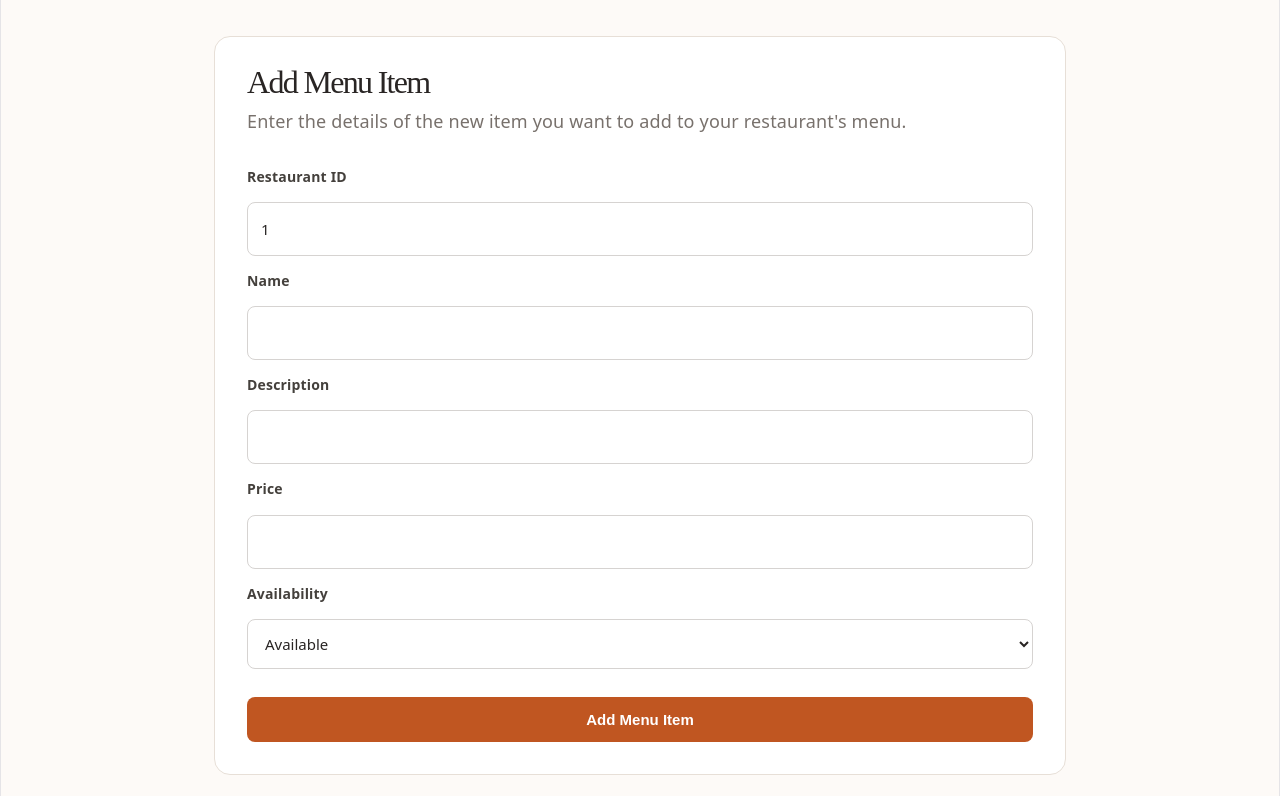
Test: adds a menu item
Type "Burger" into the field labelled "Name".
click(640, 333); type("Burger")  # box x1=247 y1=306 x2=1033 y2=360
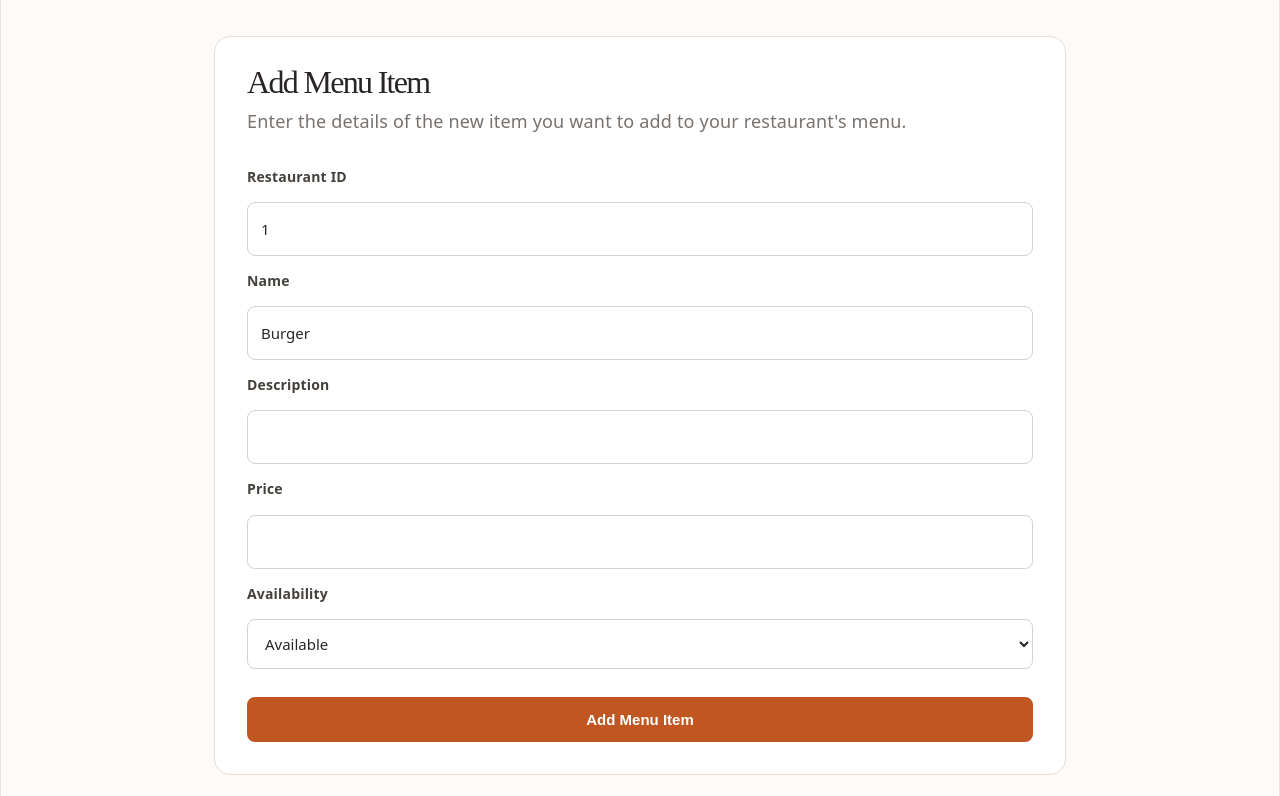
Type "10" into the number field labelled "Price".
click(640, 542); type("10")  # box x1=247 y1=514 x2=1033 y2=569
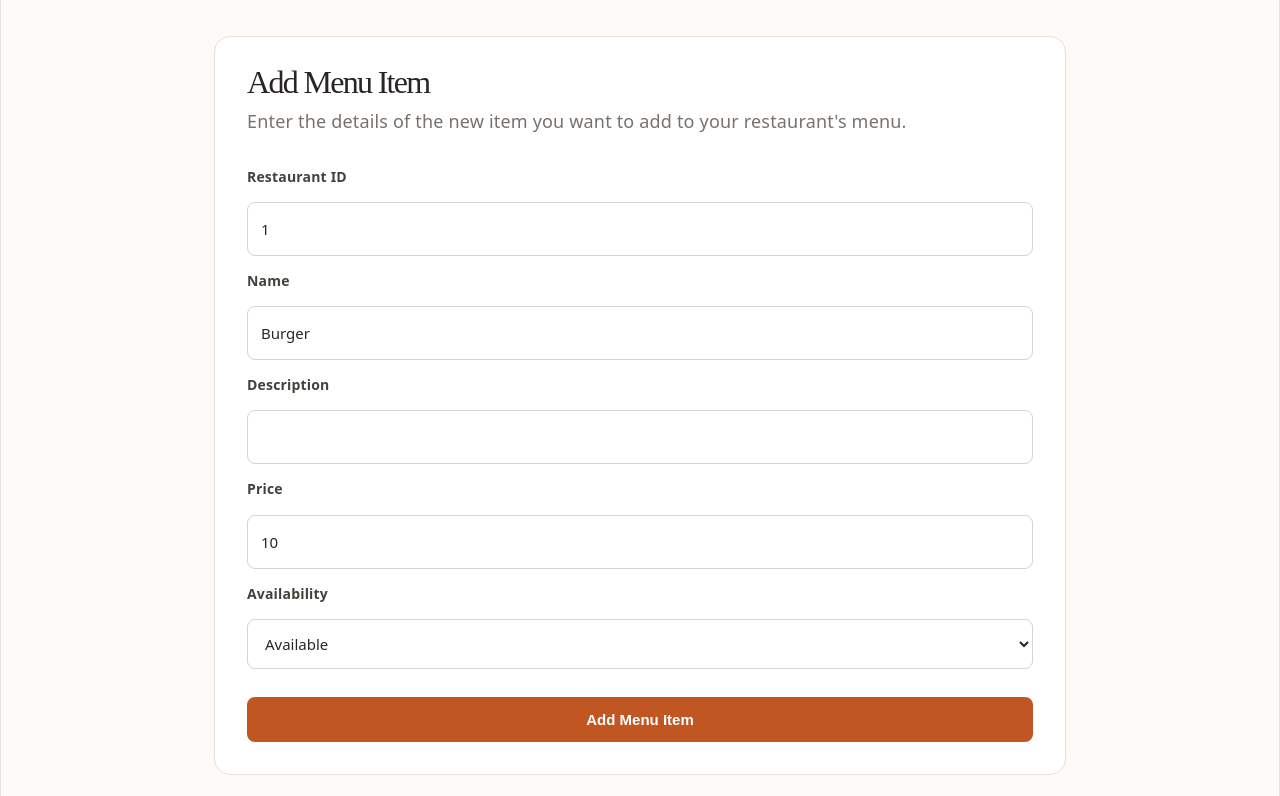
Click the button "Add Menu Item".
click(640, 719)  # box x1=247 y1=697 x2=1033 y2=742
(page scrolled)
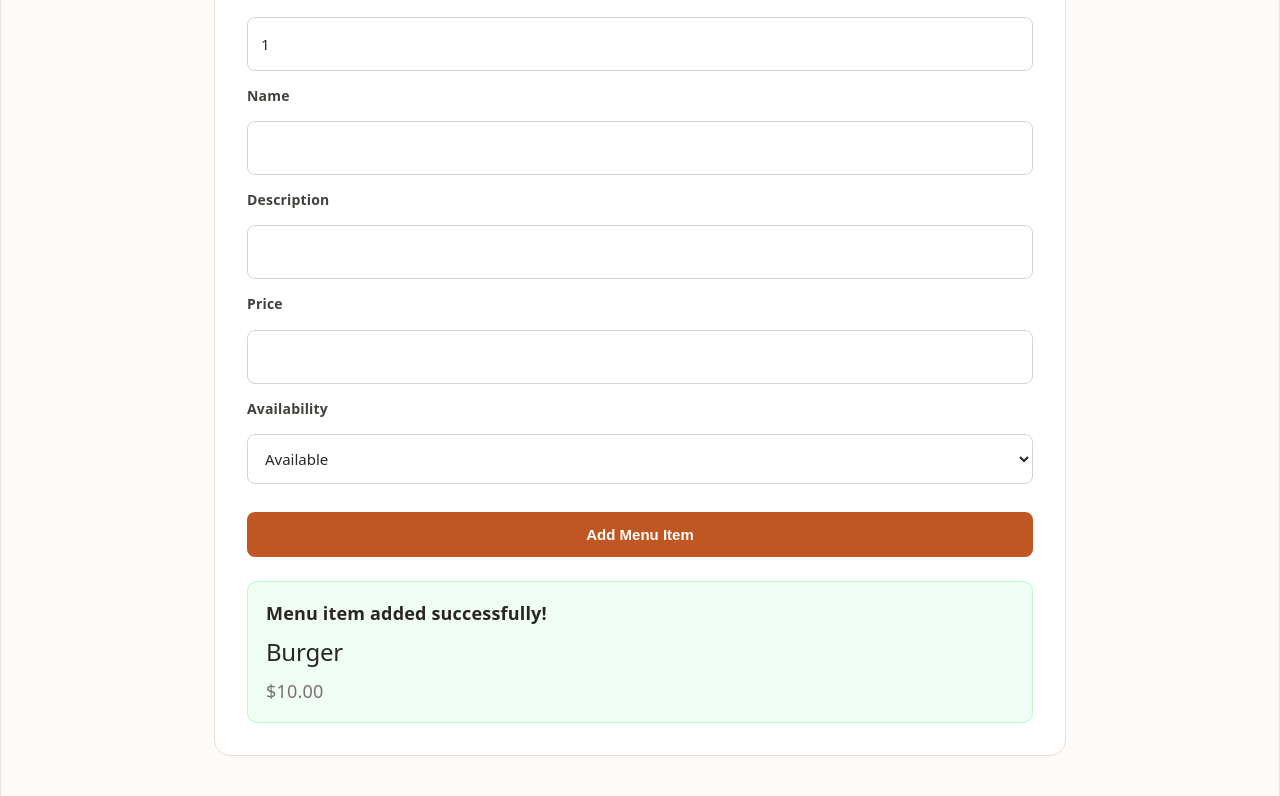
Expected: the text "Menu item added successfully!" is shown, x1=266 y1=601 x2=547 y2=625
Expected: the heading "Burger" is shown, x1=266 y1=635 x2=343 y2=668
